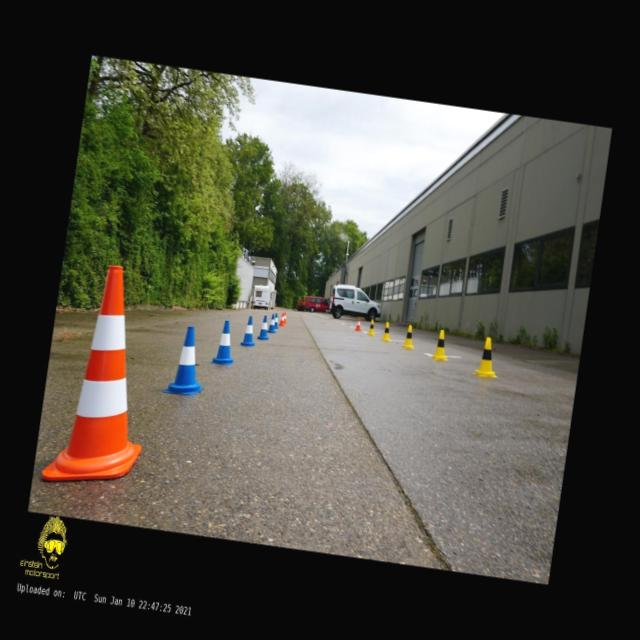blue_cone: (164, 324, 212, 397), (210, 319, 240, 367), (240, 316, 259, 348), (256, 315, 272, 341), (266, 312, 278, 334), (272, 312, 281, 329)
large_orange_cone: (41, 260, 166, 492)
orange_cone: (355, 316, 363, 332), (278, 312, 286, 327), (282, 311, 289, 325)
yellow_cone: (472, 336, 502, 380), (430, 329, 452, 362), (402, 324, 418, 350), (381, 321, 393, 342), (367, 319, 377, 336)
